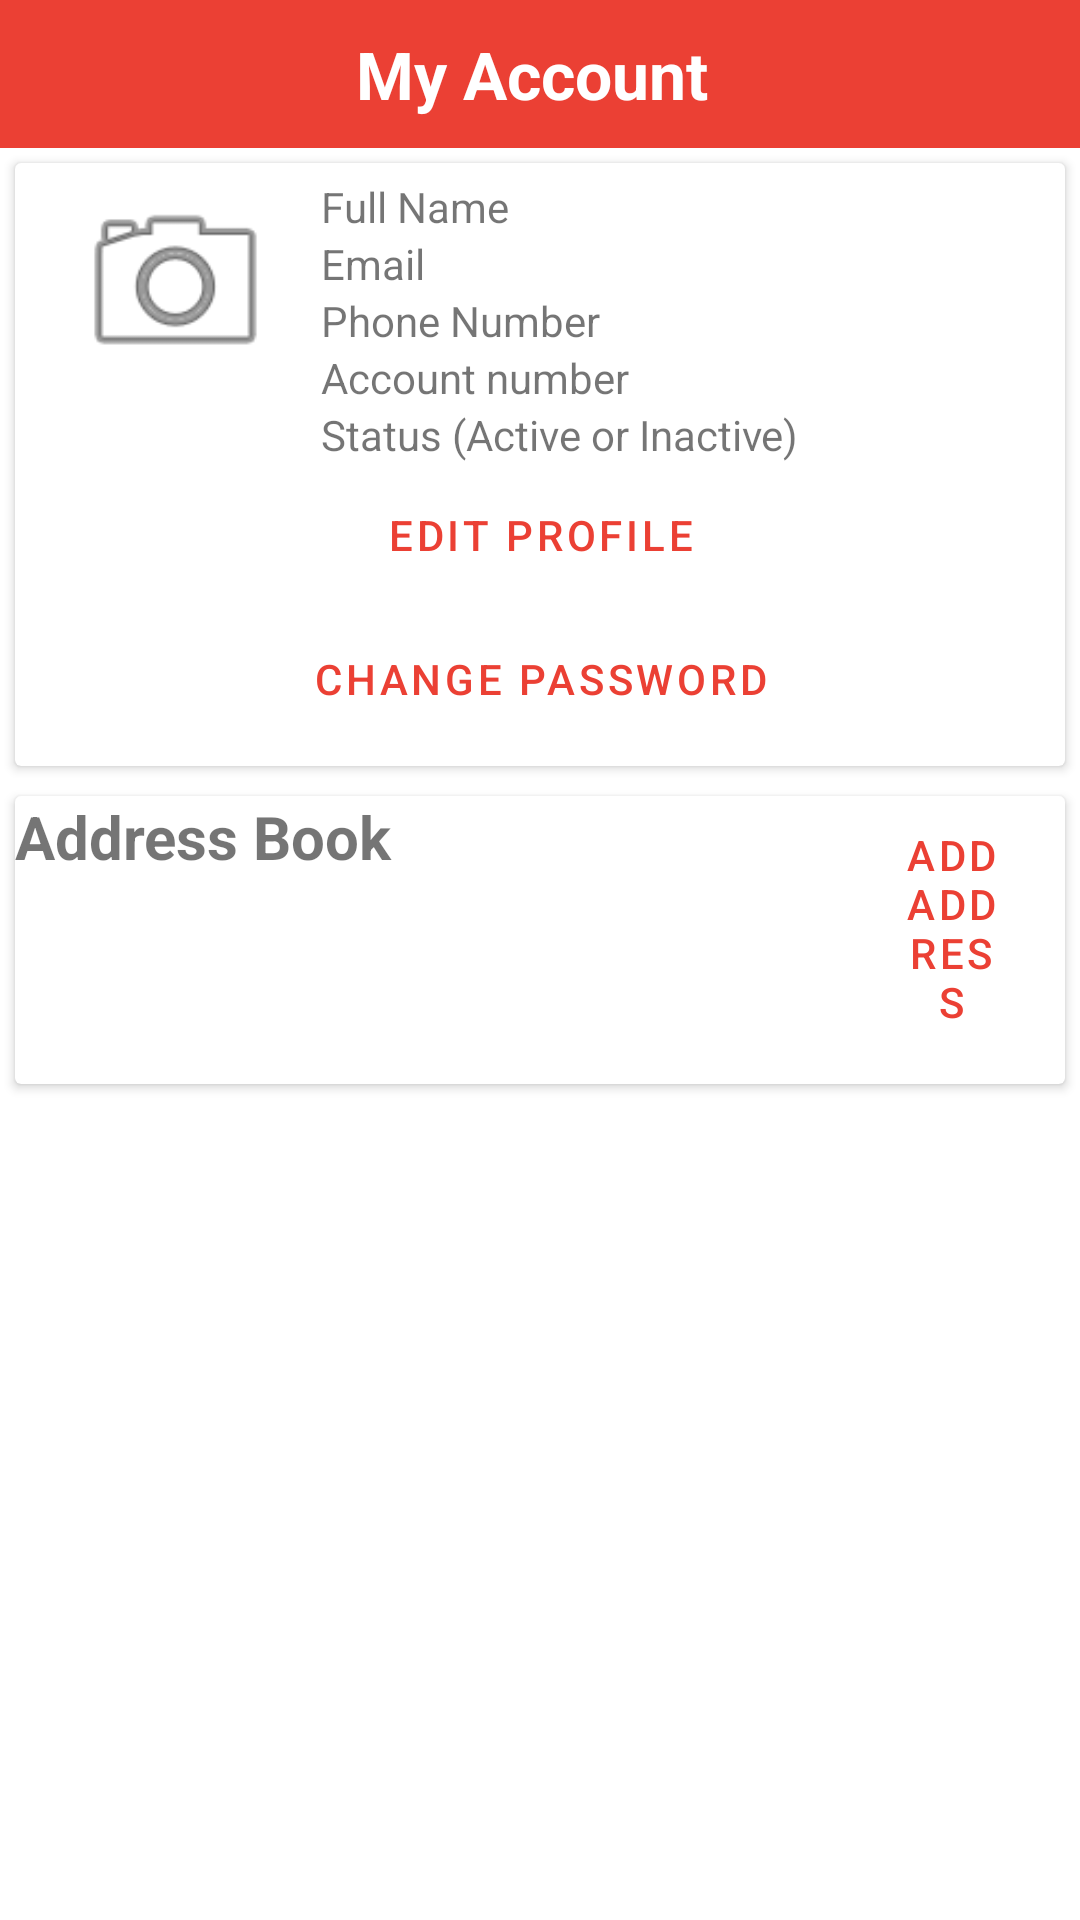

Screen size 1080×1920. Icon name, then its center in pixels as (x=x, y=y):
camera: (x=175, y=280)
